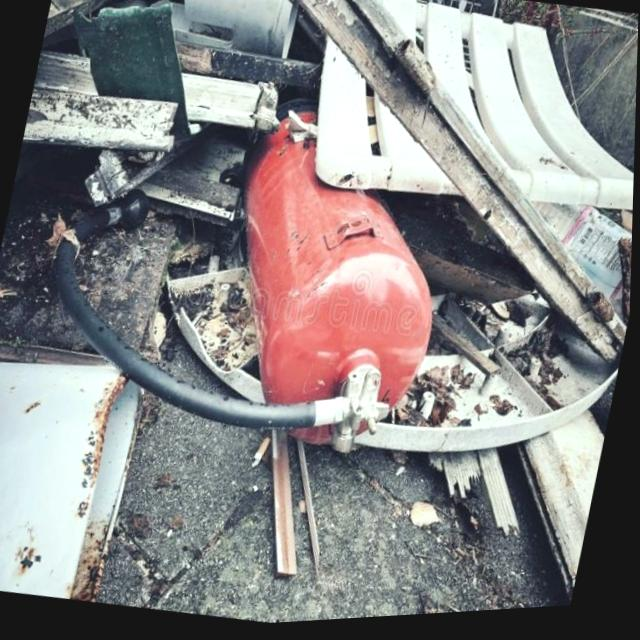FireExtinguisher: (13, 49, 481, 486)
